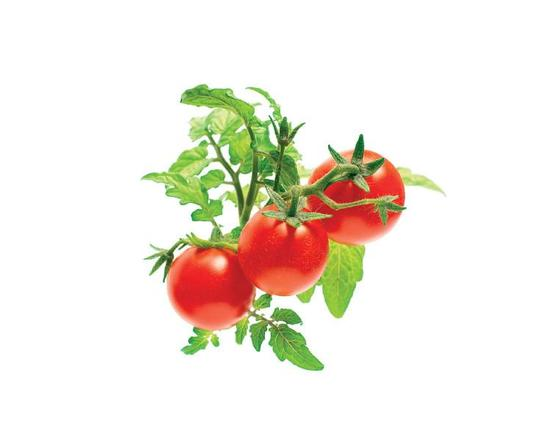tomato: (302, 137, 405, 243), (236, 204, 333, 305), (172, 237, 262, 332)
